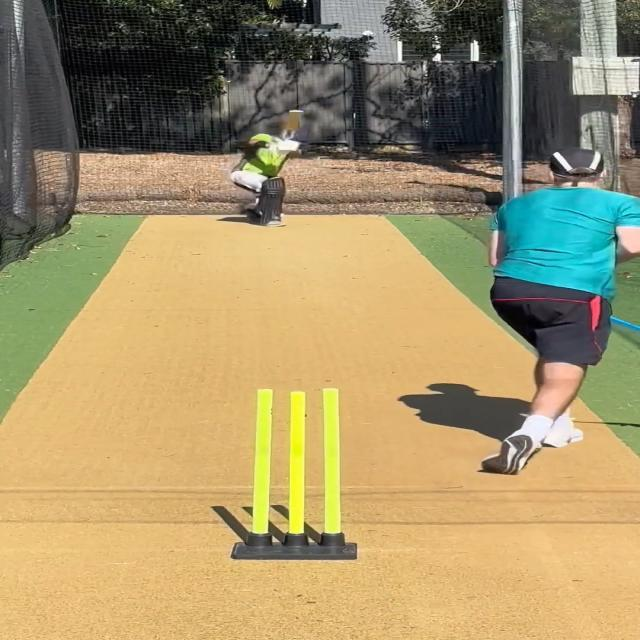stump: (231, 387, 357, 562)
